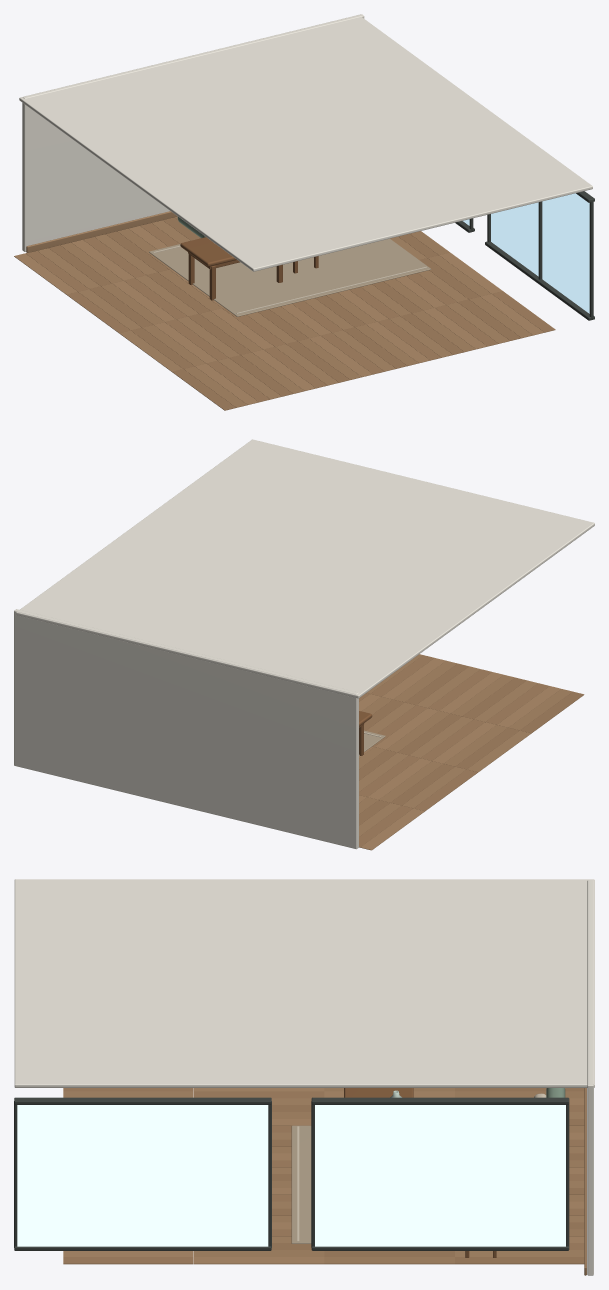
File: living-room.glb
The picture shows the model from 3 angles, top to bottom: view 1: azimuth 30°, elevation 25°; view 2: azimuth 150°, elevation 25°; view 3: azimuth 270°, elevation 25°; orthographic projection. The views are drawn at different scales.
Parts seen in each view (by area): view 1: LivingRoom_Ivory plaster, LivingRoom_Oak 2, LivingRoom_Oak 0, LivingRoom_Oak 4, LivingRoom_Oak 3, LivingRoom_Woven jute, LivingRoom_Oak 1, LivingRoom_Soft daylight glazing, LivingRoom_Graphite, LivingRoom_Oiled walnut; view 2: LivingRoom_Ivory plaster, LivingRoom_Oak 1, LivingRoom_Oak 0, LivingRoom_Oak 3, LivingRoom_Oak 4, LivingRoom_Oak 2; view 3: LivingRoom_Ivory plaster, LivingRoom_Soft daylight glazing, LivingRoom_Graphite, LivingRoom_Oak 2, LivingRoom_Oak 4, LivingRoom_Oak 0, LivingRoom_Oak 1, LivingRoom_Oak 3, LivingRoom_Woven jute, LivingRoom_Oiled walnut.
Part boxes in pixels (box(x1,y1,x2,y2)): LivingRoom_Ivory plaster: box(19, 14, 592, 271); LivingRoom_Oak 2: box(26, 211, 532, 407); LivingRoom_Oak 0: box(49, 217, 521, 410); LivingRoom_Oak 4: box(14, 226, 544, 404); LivingRoom_Oak 3: box(37, 220, 509, 399); LivingRoom_Woven jute: box(149, 238, 431, 316); LivingRoom_Oak 1: box(26, 223, 555, 402); LivingRoom_Soft daylight glazing: box(463, 193, 589, 313); LivingRoom_Graphite: box(455, 191, 594, 320); LivingRoom_Oiled walnut: box(180, 237, 282, 300); LivingRoom_Ivory plaster: box(14, 439, 594, 849); LivingRoom_Oak 1: box(359, 655, 549, 847); LivingRoom_Oak 0: box(359, 663, 584, 825); LivingRoom_Oak 3: box(359, 654, 537, 836); LivingRoom_Oak 4: box(359, 658, 560, 850); LivingRoom_Oak 2: box(359, 660, 572, 814); LivingRoom_Ivory plaster: box(14, 879, 594, 1275); LivingRoom_Soft daylight glazing: box(17, 1105, 565, 1246); LivingRoom_Graphite: box(14, 1097, 569, 1250); LivingRoom_Oak 2: box(194, 1088, 586, 1275); LivingRoom_Oak 4: box(63, 1088, 584, 1264); LivingRoom_Oak 0: box(271, 1088, 584, 1264); LivingRoom_Oak 1: box(63, 1088, 584, 1264); LivingRoom_Oak 3: box(63, 1091, 584, 1256); LivingRoom_Woven jute: box(291, 1125, 311, 1243); LivingRoom_Oiled walnut: box(344, 1088, 496, 1257).
Size of the model in its own units: 6.93 by 2.91 by 8.01.
